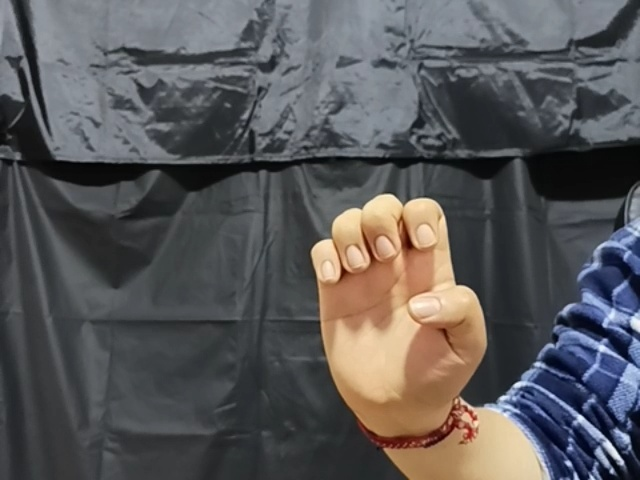E: (304, 188, 497, 440)
